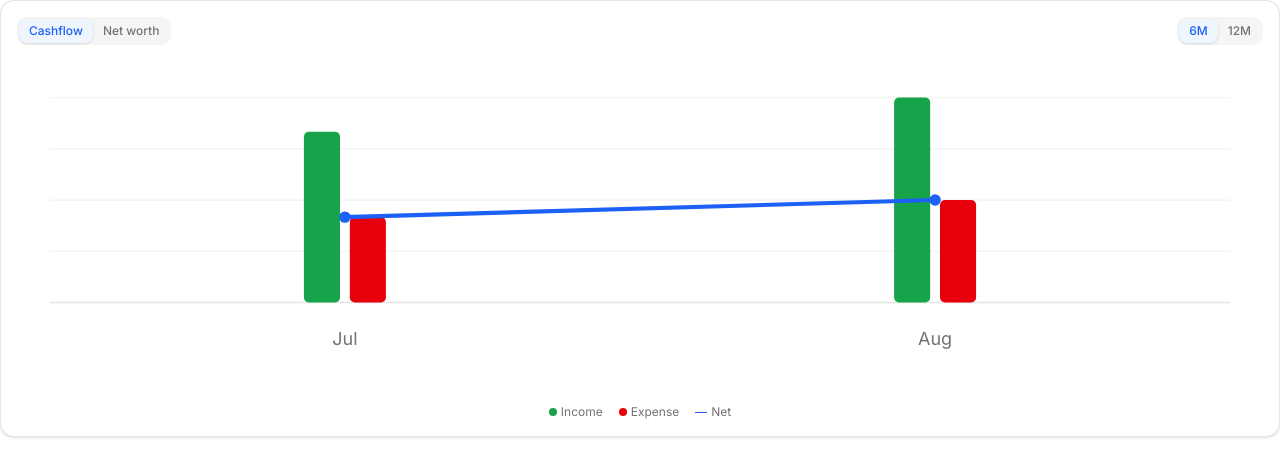
it: TrendPanel › names the withheld dates in the net worth view
This screenshot has width=1280, height=471.
Click the button "Net worth".
click(131, 31)  # box [93,19,170,43]
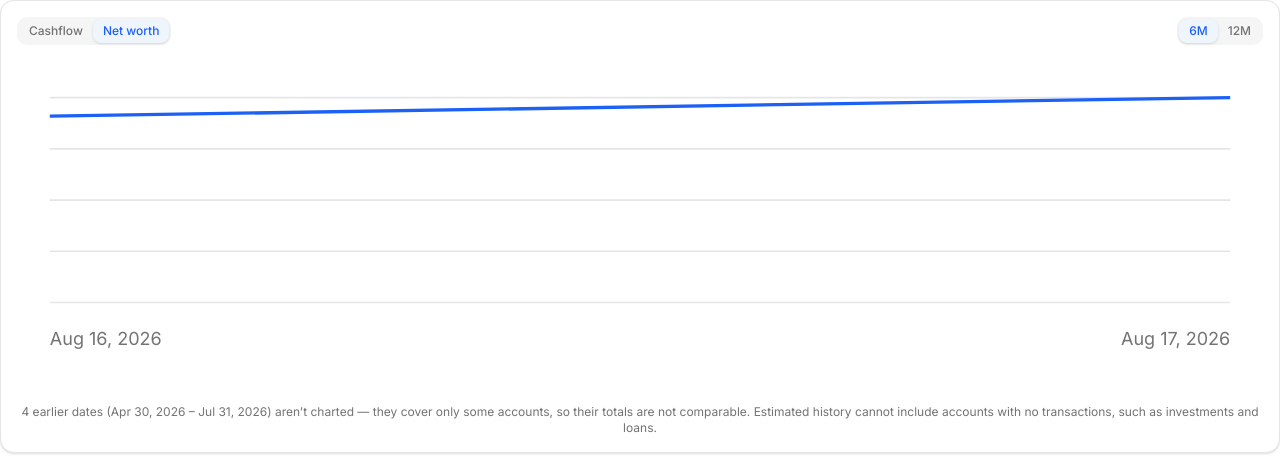
Expected: the text "aren’t charted" shows "4 earlier dates", [21,404,275,419]
Expected: the text "aren’t charted" shows "Apr 30, 2026", [21,404,275,419]
Expected: the text "aren’t charted" shows "Jul 31, 2026", [21,404,275,419]
